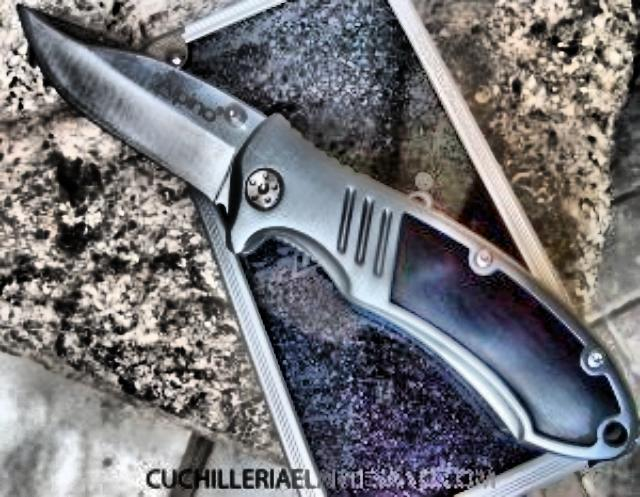knife: (4, 1, 266, 212)
